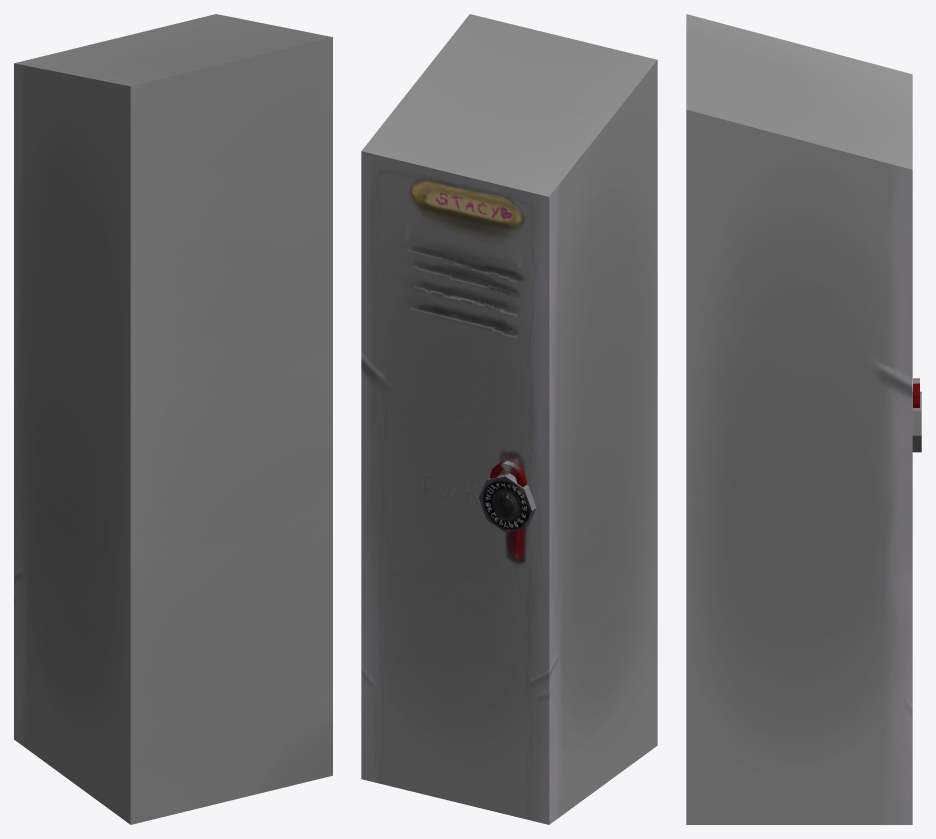
The model's file is locker.fbx.
3 renders of one model, left to right at view 1: azimuth 30°, elevation 25°; view 2: azimuth 150°, elevation 25°; view 3: azimuth 270°, elevation 25°, orthographic. The views are drawn at different scales.
Visible parts, largest first — view 1: Cube; view 2: Cube; view 3: Cube.
Boxes of the visible parts, bbox=[...] form: Cube: bbox=[14, 14, 332, 824]; Cube: bbox=[361, 14, 657, 824]; Cube: bbox=[686, 14, 921, 824].
Bounding box in the file's own units: 200 × 698 × 208.
Materials: 1 (1 with a texture image).
